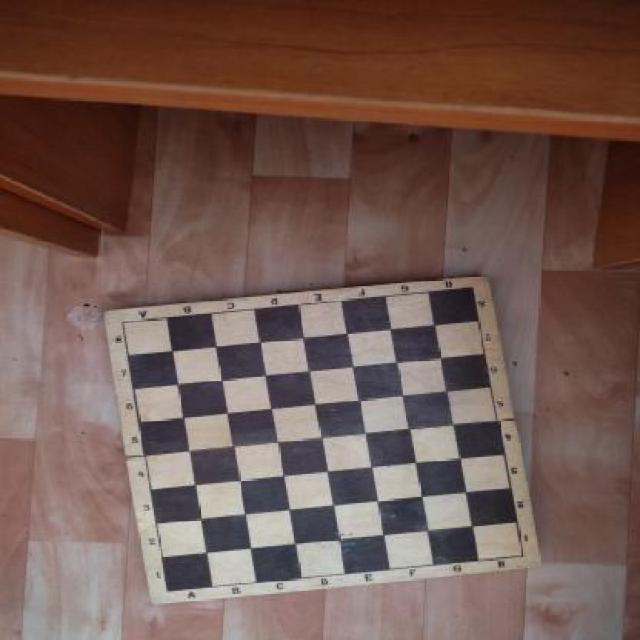chess-table-corners: (148, 574, 194, 608), (502, 538, 544, 572), (103, 309, 143, 342), (448, 276, 492, 304)
